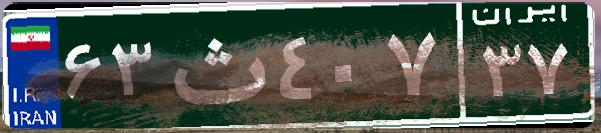0: (330, 28, 385, 110)
3: (475, 38, 525, 113), (110, 28, 158, 105)
4: (273, 28, 330, 110)
6: (57, 26, 110, 107)
7: (385, 28, 445, 110), (525, 38, 570, 115)
ث: (158, 15, 273, 115)
